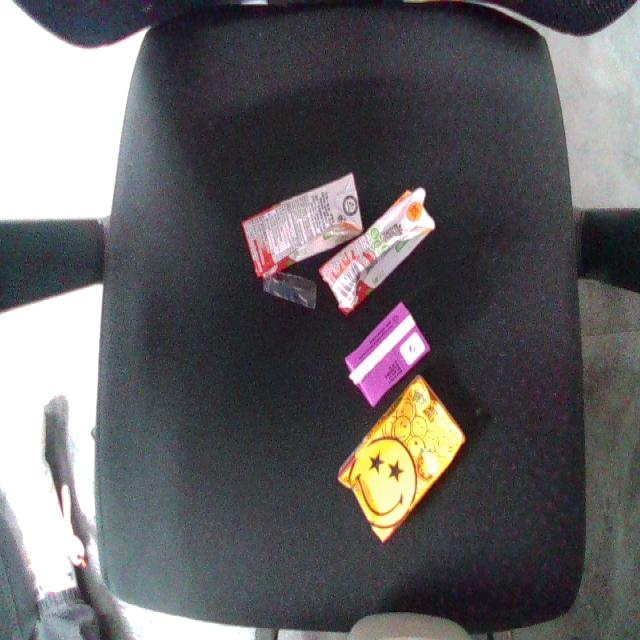juicebox: (313, 366, 491, 552), (303, 172, 463, 326), (228, 166, 386, 290), (326, 289, 454, 414)
